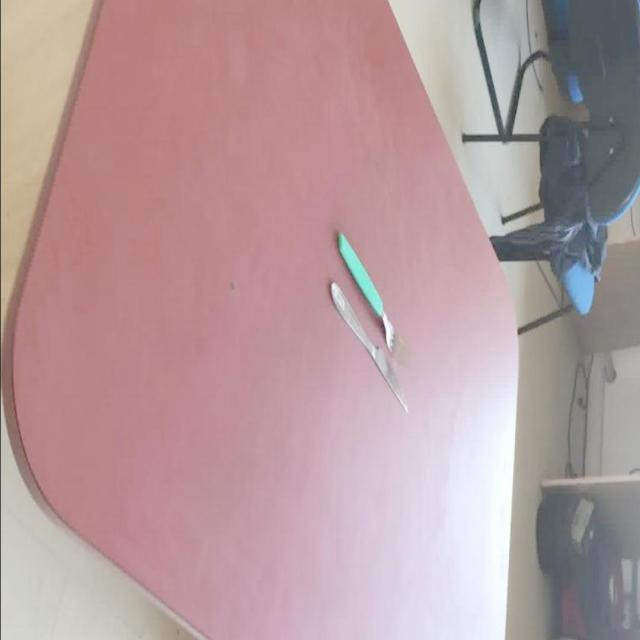Knife: (330, 281, 410, 412), (337, 230, 410, 366)
